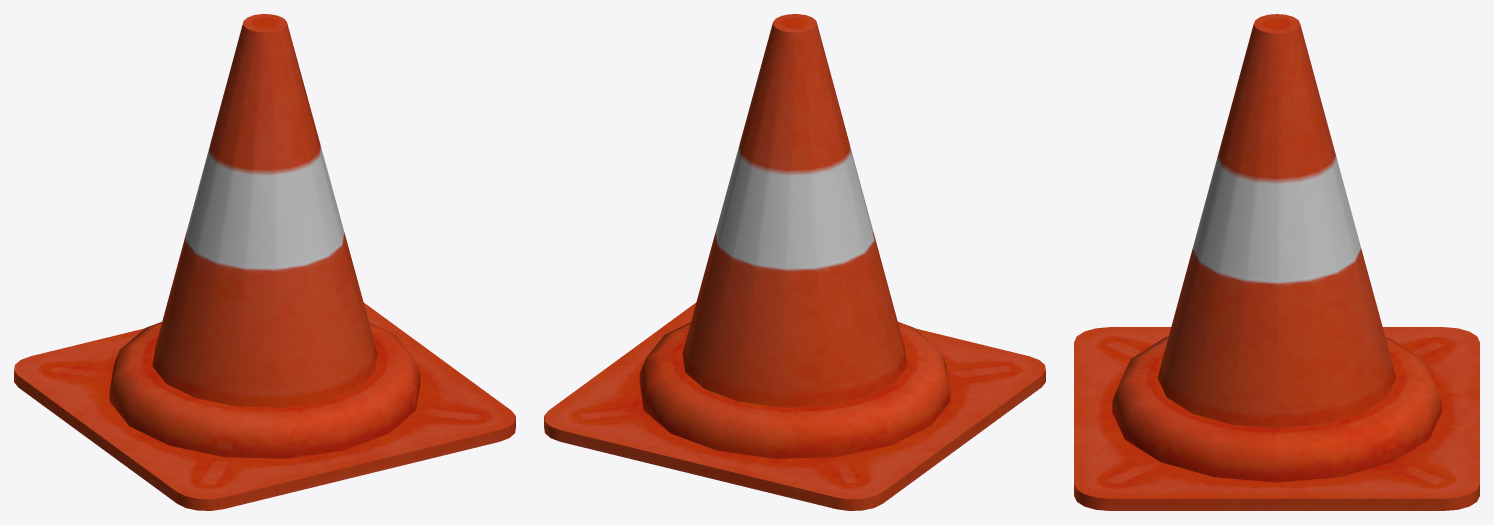
Rendered from MB_Cone_Orange.fbx.
The picture shows the model from 3 angles, left to right: view 1: azimuth 30°, elevation 25°; view 2: azimuth 150°, elevation 25°; view 3: azimuth 270°, elevation 25°; orthographic projection. The views are drawn at different scales.
Visible parts, largest first — view 1: MB_Cone_Orange_LOD0; view 2: MB_Cone_Orange_LOD0; view 3: MB_Cone_Orange_LOD0.
Boxes of the visible parts, left/top/right/bottom form: MB_Cone_Orange_LOD0: left=14, top=14, right=515, bottom=510; MB_Cone_Orange_LOD0: left=544, top=14, right=1045, bottom=510; MB_Cone_Orange_LOD0: left=1074, top=14, right=1479, bottom=510.
Size of what is drawn, in the model's own units: 41.53 by 45.32 by 41.53.
